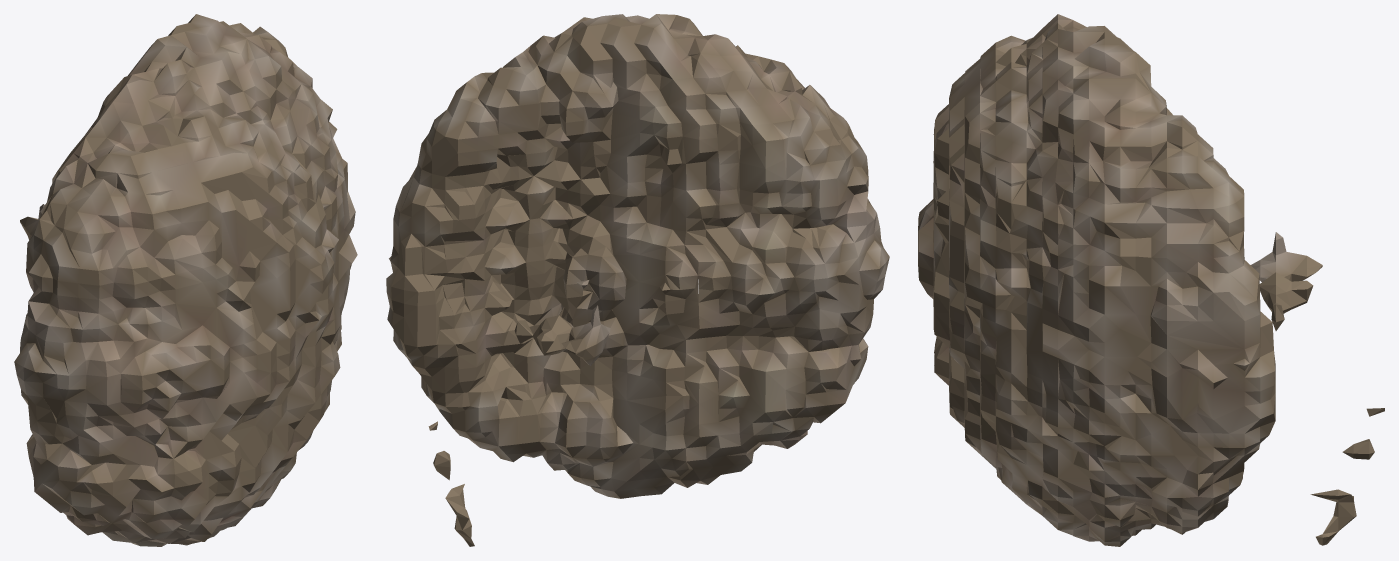
File: mud_patch.glb
3 views of the same model, side by side, from view 1: azimuth 30°, elevation 25°; view 2: azimuth 150°, elevation 25°; view 3: azimuth 270°, elevation 25° (orthographic). The views are drawn at different scales.
Visible parts, largest first — view 1: world; view 2: world; view 3: world.
Part boxes in pixels (<box>): world: <box>14,14,357,546</box>; world: <box>386,14,889,546</box>; world: <box>918,14,1384,546</box>.
Bounding box in the file's own units: 0.1711 × 0.2 × 0.1714.
